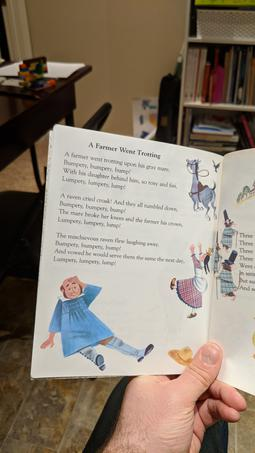text block: (53, 131, 192, 281), (224, 221, 255, 297)
